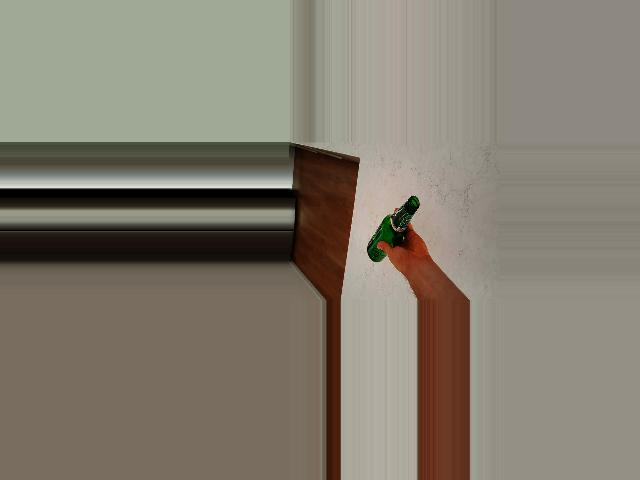beer: (367, 195, 420, 262)
